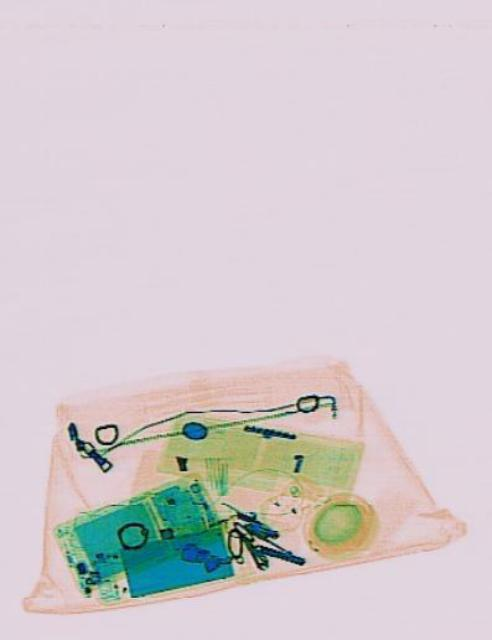Scissors: (216, 512, 270, 582)
